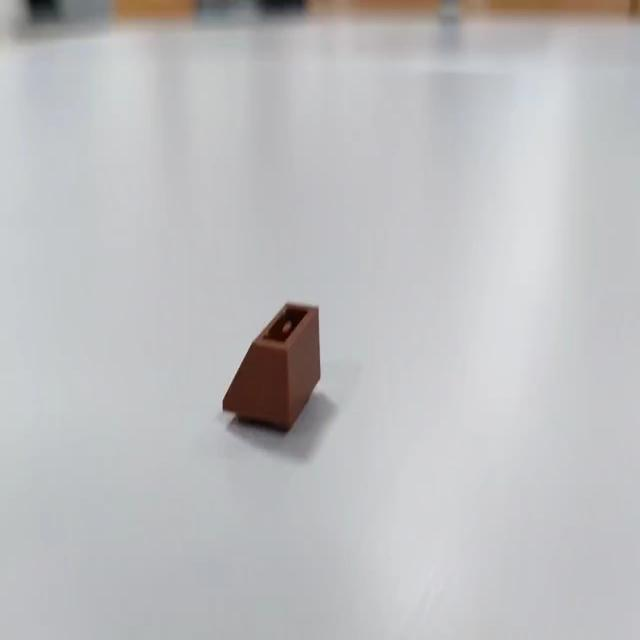X2x2x1: (221, 299, 321, 432)
